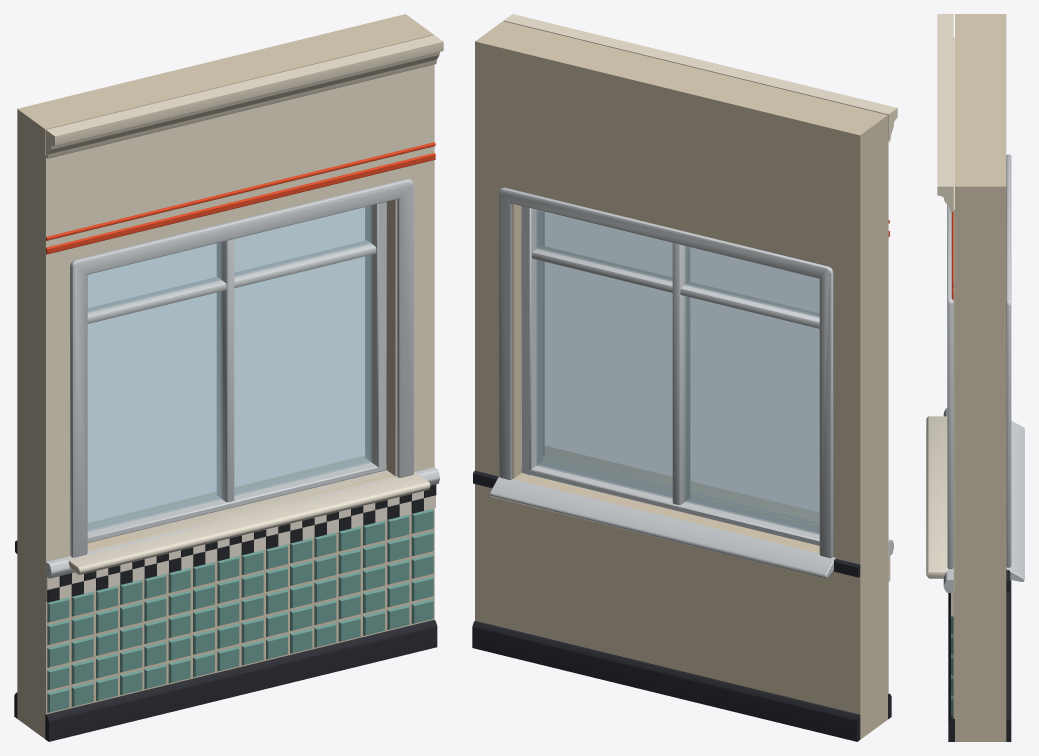
File: Shop_WallWindow.fbx
3 views of the same model, side by side, from view 1: azimuth 30°, elevation 25°; view 2: azimuth 150°, elevation 25°; view 3: azimuth 270°, elevation 25° (orthographic). The views are drawn at different scales.
Parts seen in each view (by area): view 1: Glass, Upper, Tiles, Frame, Core, Baseboard, Grout, Sill, Stripe, CheckerDark, CheckerLight, ChairRail; view 2: Core, Glass, Frame, BackBase, Upper, Sill, ChairRail, BackBand; view 3: Core, Frame, Upper, Sill, BackBase, Baseboard, Tiles, ChairRail, Stripe, Grout.
Part boxes in pixels (left/top/right/bottom): Glass: left=87, top=205, right=371, bottom=531; Upper: left=45, top=35, right=443, bottom=575; Tiles: left=47, top=508, right=433, bottom=712; Frame: left=70, top=179, right=413, bottom=557; Core: left=17, top=14, right=433, bottom=738; Baseboard: left=45, top=620, right=437, bottom=741; Grout: left=45, top=508, right=434, bottom=714; Sill: left=66, top=470, right=430, bottom=574; Stripe: left=46, top=142, right=435, bottom=254; CheckerDark: left=47, top=484, right=436, bottom=602; CheckerLight: left=46, top=491, right=435, bottom=601; ChairRail: left=46, top=467, right=439, bottom=578; Core: left=475, top=21, right=887, bottom=739; Glass: left=536, top=210, right=819, bottom=534; Frame: left=489, top=187, right=835, bottom=578; BackBase: left=472, top=621, right=860, bottom=741; Upper: left=503, top=14, right=897, bottom=556; Sill: left=543, top=446, right=819, bottom=526; ChairRail: left=543, top=456, right=893, bottom=556; BackBand: left=473, top=470, right=860, bottom=577; Core: left=955, top=14, right=1006, bottom=741; Frame: left=947, top=154, right=1024, bottom=581; Upper: left=937, top=14, right=954, bottom=592; Sill: left=926, top=416, right=947, bottom=578; BackBase: left=1006, top=580, right=1011, bottom=741; Baseboard: left=948, top=593, right=954, bottom=741; Tiles: left=951, top=616, right=953, bottom=716; ChairRail: left=943, top=408, right=953, bottom=592; Stripe: left=951, top=212, right=953, bottom=299; Grout: left=953, top=593, right=954, bottom=718.
Size of the model in its own units: 800 by 1200 by 192.
